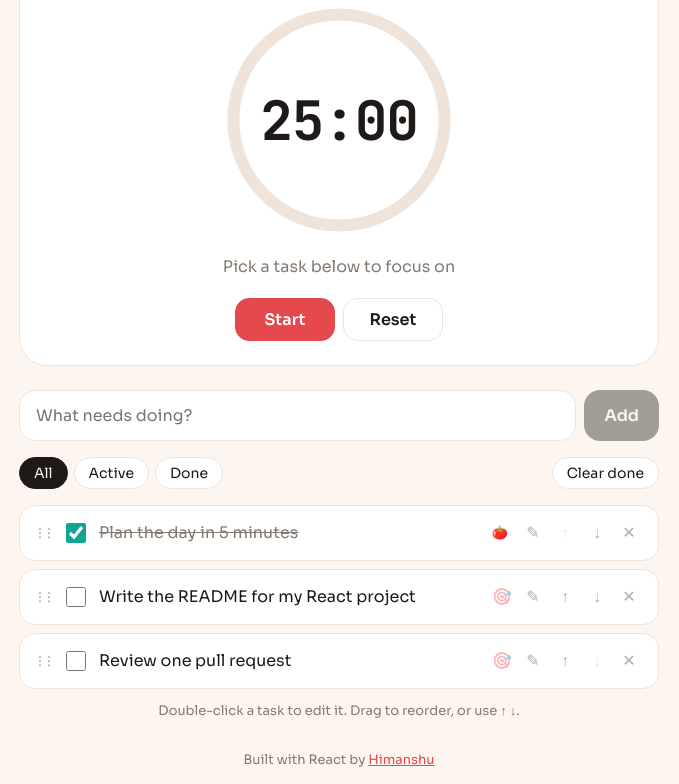
Test: <App /> › selects a task to focus on
The width and height of the screenshot is (679, 784).
(page scrolled)
Click the button titled "Focus on this task" next to "Write the README for my React project" at (501, 597), box [486,582,516,612]
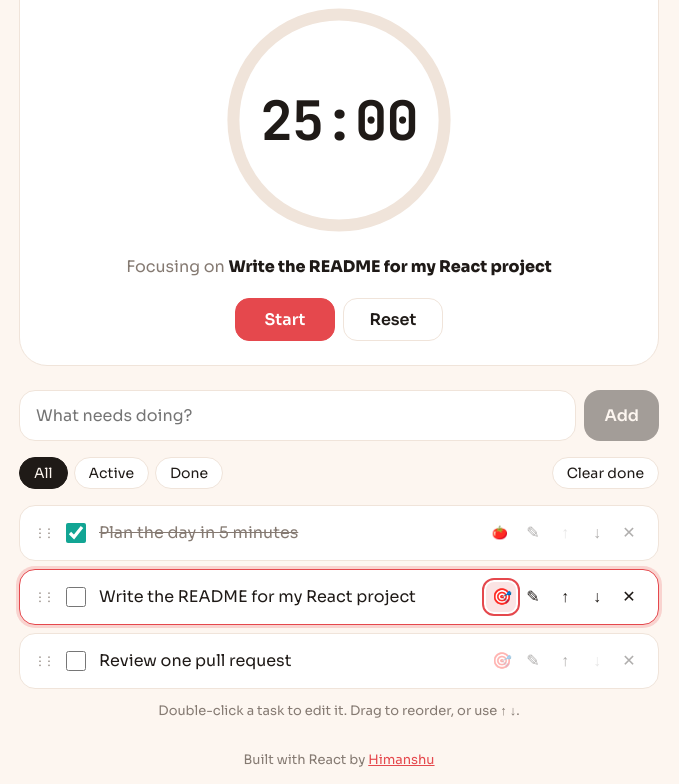
Expected: the text "Focusing on Write the README for my React project" is shown, [126,256,552,277]
